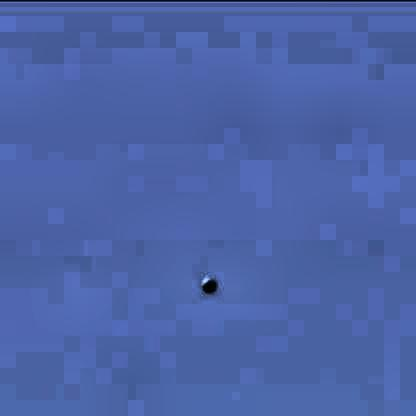golfball: (198, 273, 216, 291)
